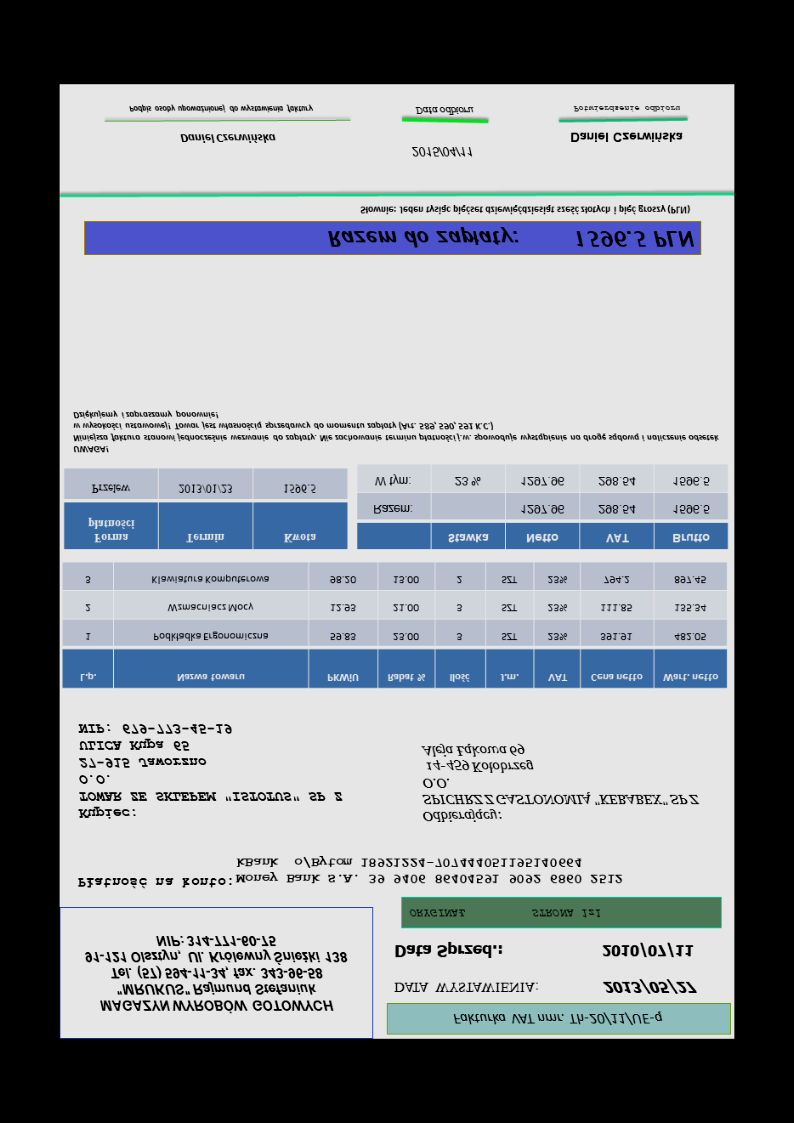Table: (60, 558, 732, 690), (356, 460, 729, 553), (63, 467, 349, 552)
TextBox: (68, 406, 721, 457), (75, 721, 346, 820), (419, 741, 701, 825), (80, 930, 354, 1014), (235, 856, 625, 887), (322, 225, 697, 253), (356, 203, 693, 219), (449, 1008, 666, 1028), (408, 905, 604, 923), (391, 977, 541, 998), (126, 101, 315, 116), (73, 875, 236, 892), (392, 941, 505, 961), (598, 940, 696, 961), (567, 128, 684, 145), (597, 978, 699, 997), (569, 104, 683, 116), (177, 133, 277, 146), (408, 145, 474, 160), (413, 105, 476, 117)
